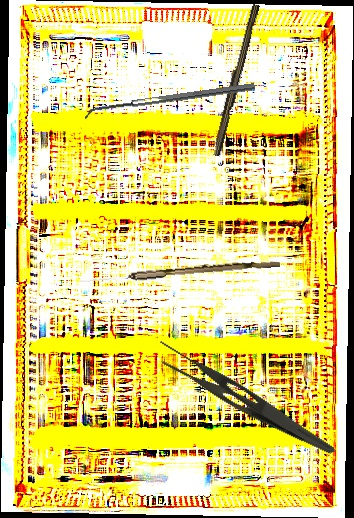Dressing Forceps: (146, 337, 347, 457)
Scalpel Handle: (210, 2, 260, 158)
Spatula Surgical: (83, 83, 257, 121)
Surgical Spoon: (80, 256, 280, 288)
